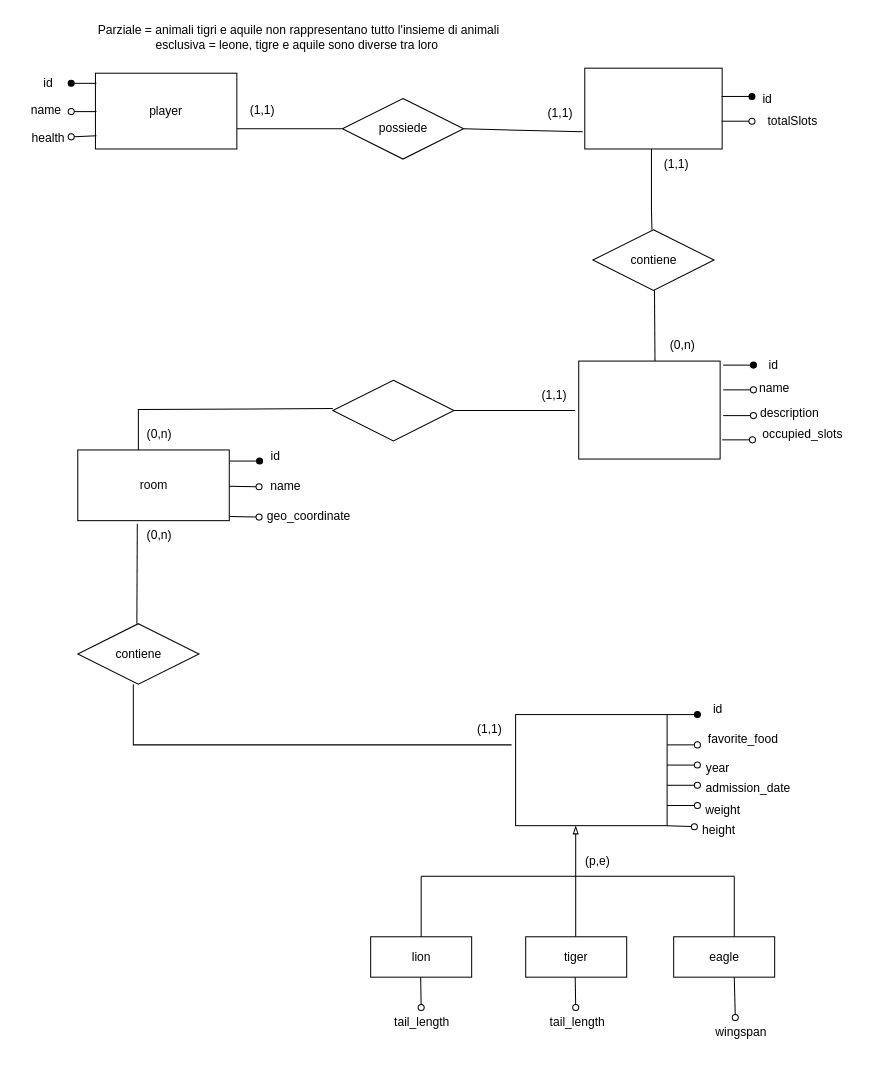
This 871x1065 diagram has some shape labels left out. The centre of each missing label's shape, as x and y in pixels:
"animal" belongs at point (591, 770).
"bag" belongs at point (653, 108).
"item" belongs at point (649, 409).
"è contenuto" belongs at point (393, 410).
